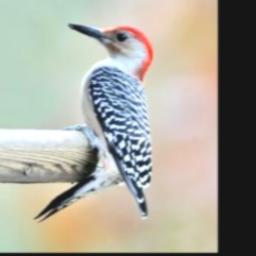Woodpecker: (25, 14, 166, 237)
